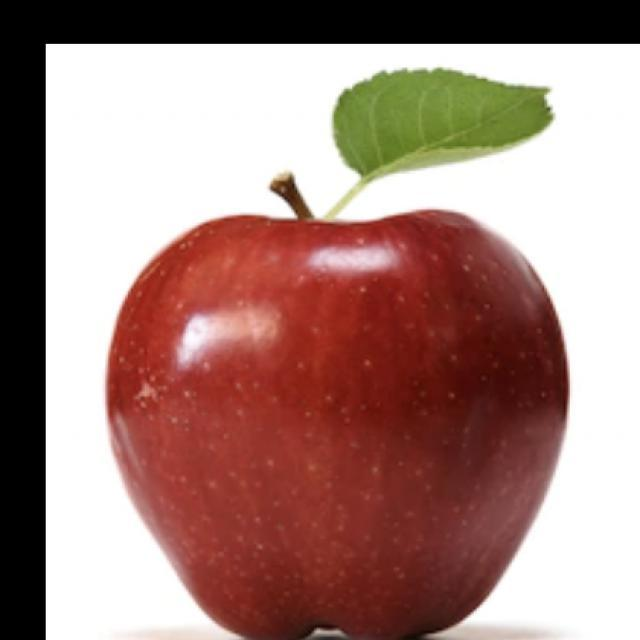Fresh Apple: (106, 205, 640, 640)
